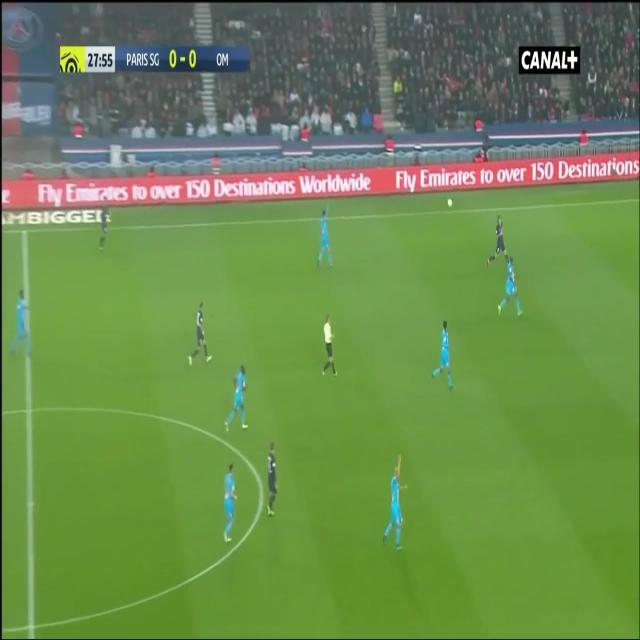Ball: (446, 194, 454, 209)
Player: (381, 452, 410, 552), (222, 363, 252, 436), (182, 298, 214, 365), (495, 255, 525, 318), (430, 316, 454, 392), (10, 288, 32, 362), (222, 461, 240, 548), (486, 214, 509, 272), (265, 438, 280, 524), (316, 204, 334, 270), (96, 200, 112, 256)
Referee: (320, 313, 338, 377)
